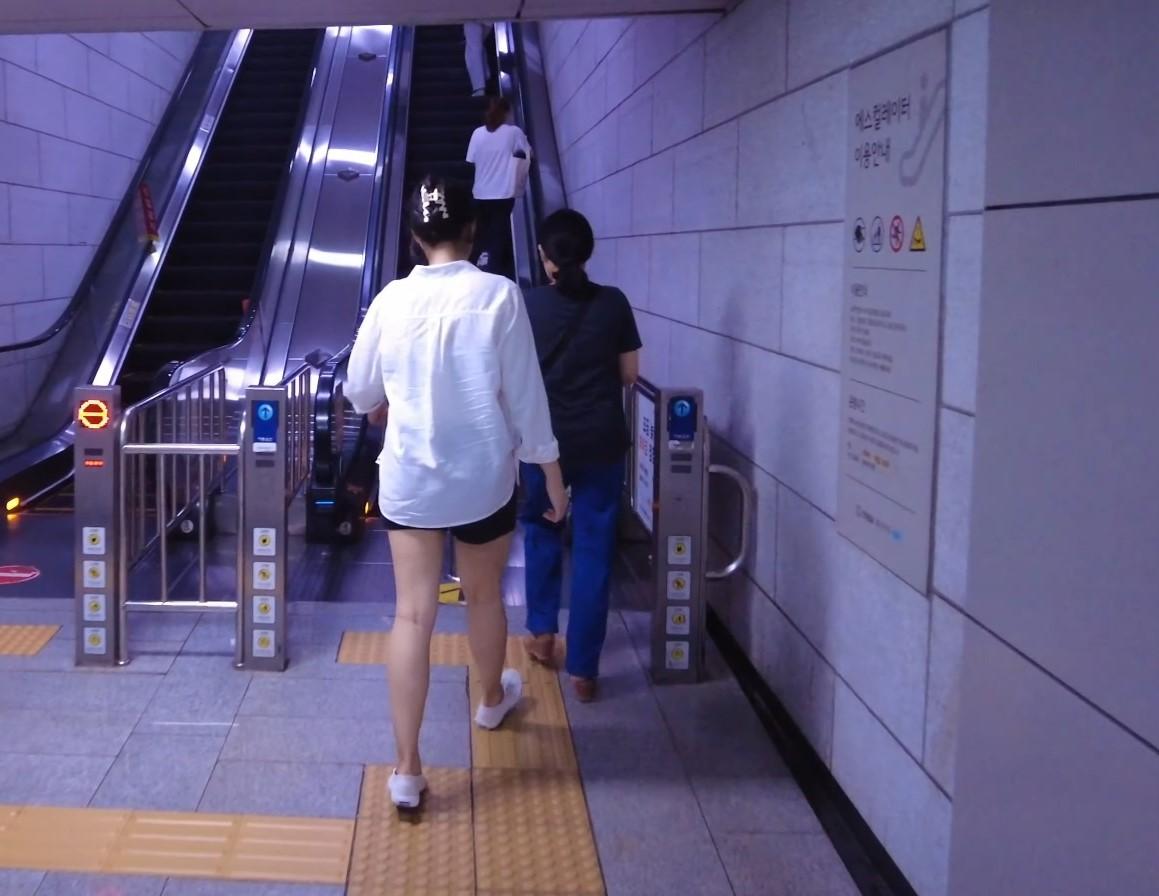guideBlock: (238, 821, 373, 889), (15, 812, 160, 871), (130, 811, 246, 883)
warningBlock: (348, 812, 488, 896), (469, 821, 622, 896), (353, 758, 479, 823), (474, 771, 594, 838)
